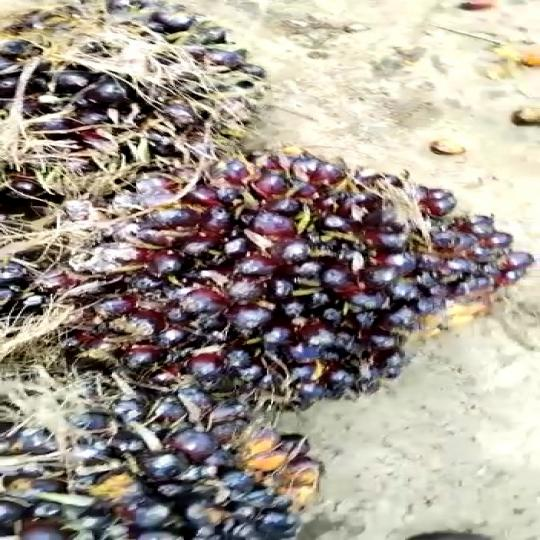mentah: (32, 143, 515, 410), (0, 0, 262, 210), (0, 387, 301, 539)
